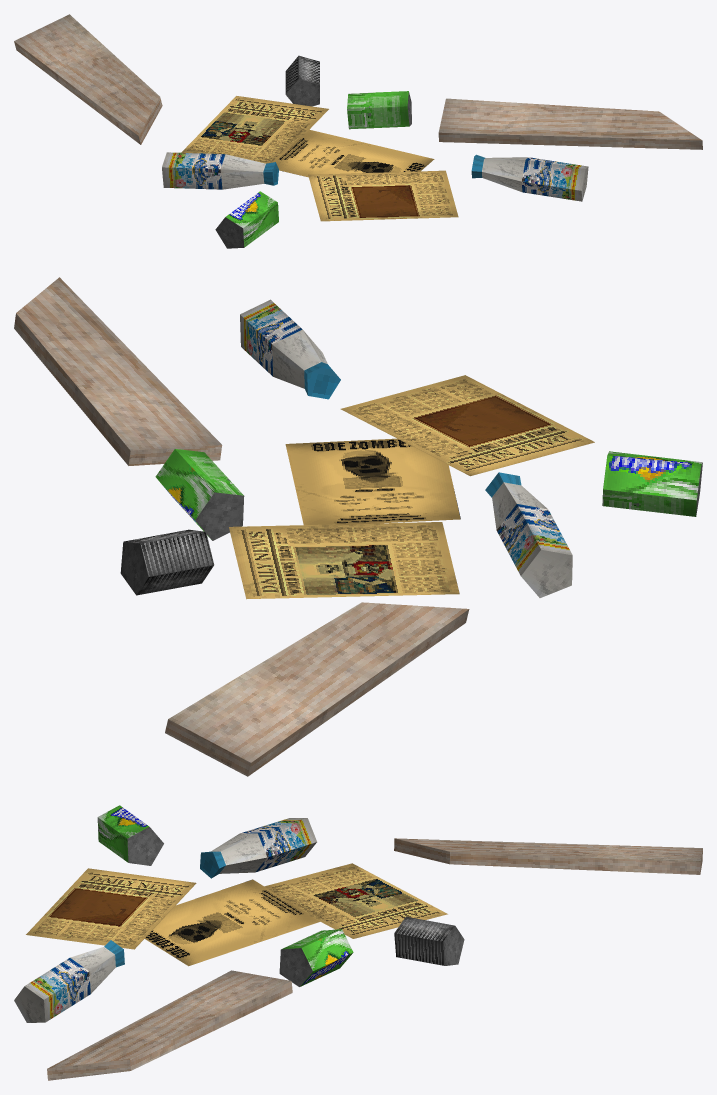
Rendered from garbage_stack_3.glb.
3 renders of one model, top to bottom at view 1: azimuth 30°, elevation 25°; view 2: azimuth 150°, elevation 25°; view 3: azimuth 270°, elevation 25°, orthographic. The views are drawn at different scales.
Visible parts, largest first — view 1: Plane; view 2: Plane; view 3: Plane.
Part boxes in pixels (x1,y1,x2,y2): Plane: (14, 14, 702, 248); Plane: (14, 277, 702, 776); Plane: (14, 805, 702, 1080).
Bounding box in the file's own units: 3.36 × 0.2682 × 3.84.
1 material, 1 textured.
